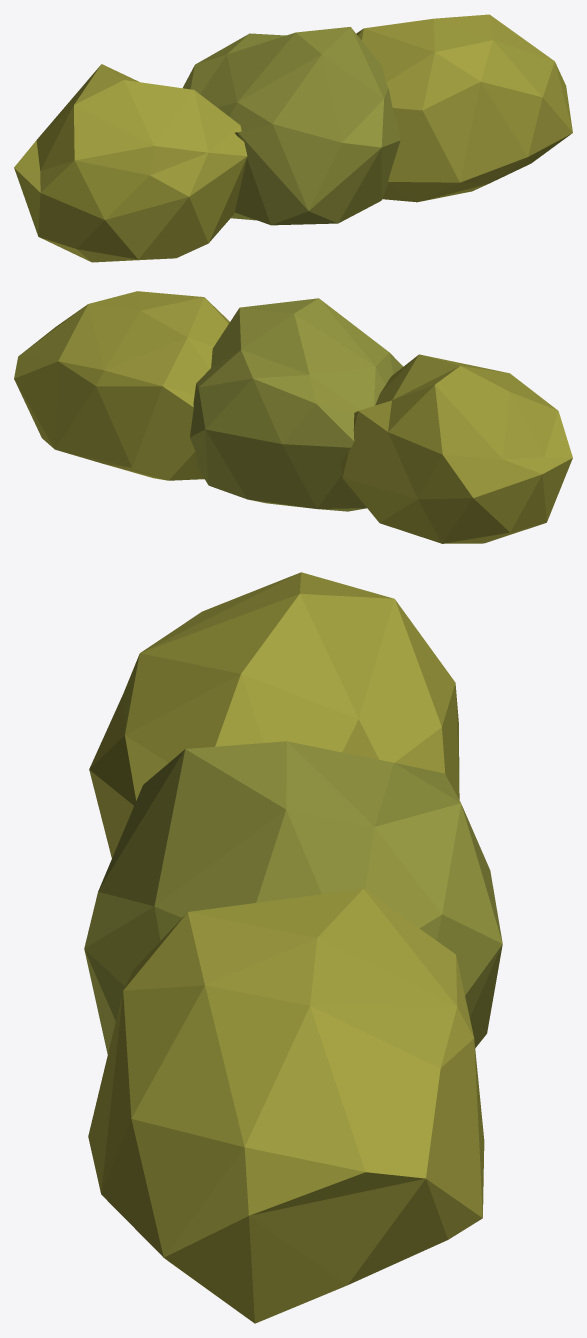
Rendered from fantasy_bush_1.fbx.
3 renders of one model, top to bottom at view 1: azimuth 30°, elevation 25°; view 2: azimuth 150°, elevation 25°; view 3: azimuth 270°, elevation 25°, orthographic. The views are drawn at different scales.
Parts seen in each view (by area): view 1: Icosphere.005; view 2: Icosphere.005; view 3: Icosphere.005.
Boxes of the visible parts, <box> form: Icosphere.005: <box>14,14,572,262</box>; Icosphere.005: <box>14,291,572,543</box>; Icosphere.005: <box>84,572,502,1323</box>.
Size of the model in its own units: 205 by 66.54 by 70.52.
